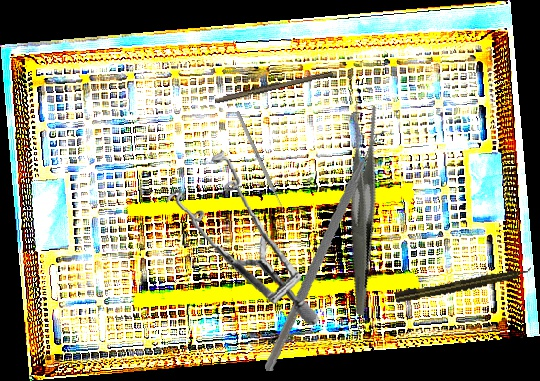Chopper: (238, 129, 426, 372)
Dressing Forceps: (288, 99, 433, 317)
Handpiece: (394, 264, 533, 305)
Pusher: (235, 110, 289, 220)
Scalpel Handle: (213, 67, 334, 106)
Speculum: (160, 142, 321, 339)
